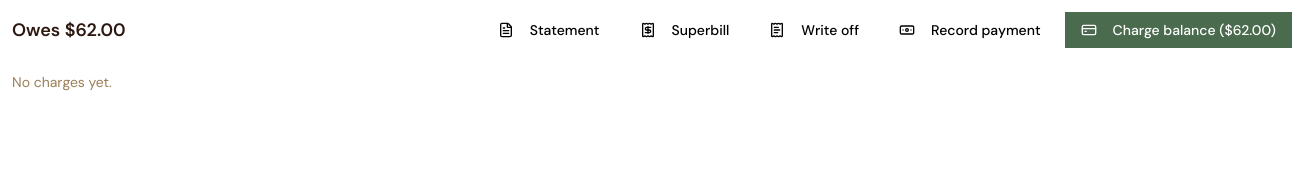
Test: BalanceTab › charging the balance › shows the processor's reason on a decline
Click the button "Charge balance ($62.00)".
click(1178, 30)  # box [1065,12,1292,48]
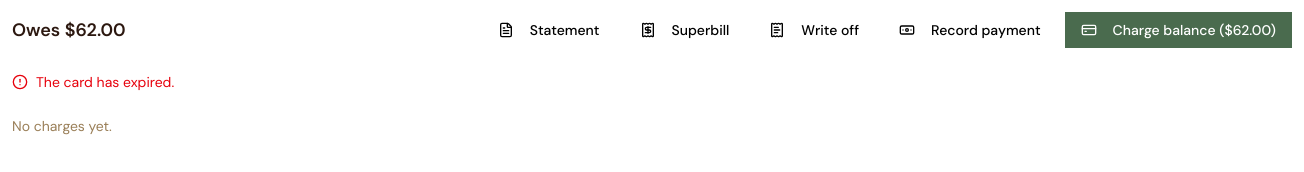
Expected: the message reads "The card has expired.", [36,73,174,91]
